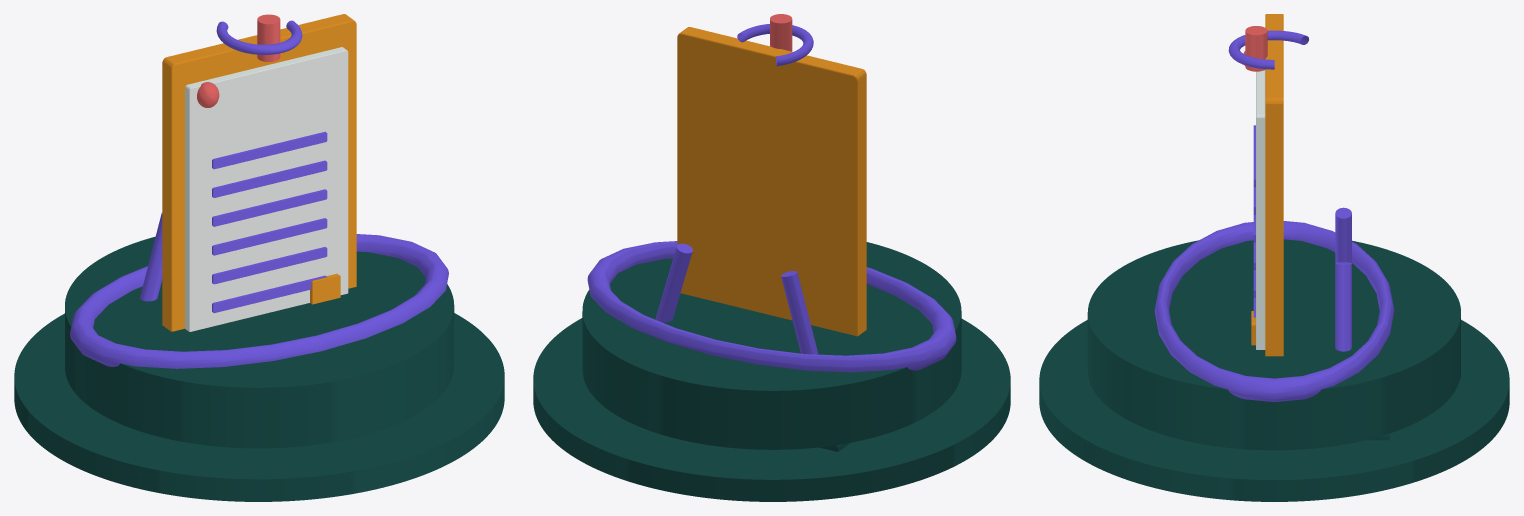
Rendered from 0558_伟大的发明图鉴_世界上第一张照片.glb.
3 views of the same model, side by side, from view 1: azimuth 30°, elevation 25°; view 2: azimuth 150°, elevation 25°; view 3: azimuth 270°, elevation 25° (orthographic). The views are drawn at different scales.
Parts seen in each view (by area): view 1: card_0558; view 2: card_0558; view 3: card_0558.
Boxes of the visible parts, x1,y1,x2,y2 form: card_0558: [14, 14, 504, 501]; card_0558: [533, 14, 1010, 501]; card_0558: [1039, 14, 1509, 501].
Bounding box in the file's own units: 1.15 × 1 × 1.15.
